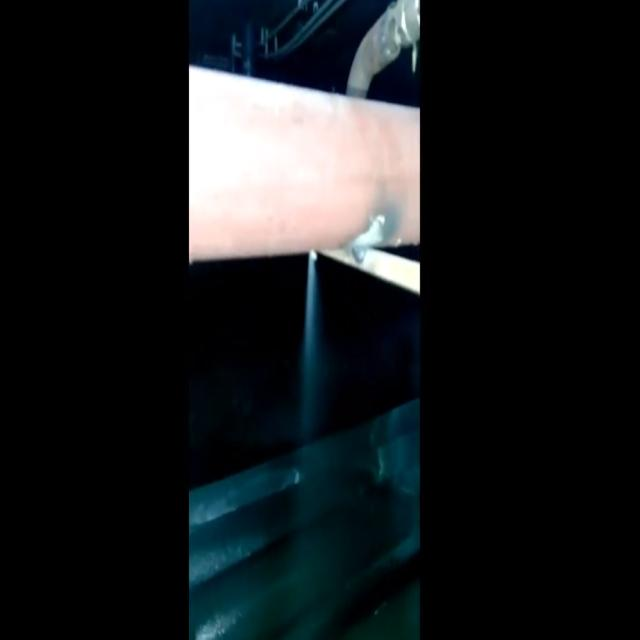leak: (298, 251, 316, 453)
